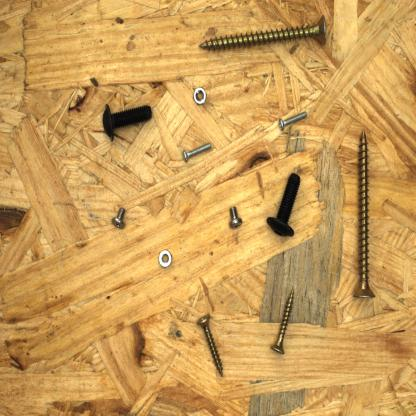screw: (197, 9, 332, 55), (348, 124, 379, 304), (264, 167, 304, 241), (98, 97, 154, 145), (194, 308, 226, 380), (268, 284, 299, 356), (273, 108, 312, 133), (178, 139, 214, 166), (109, 203, 131, 233), (226, 201, 246, 232)
